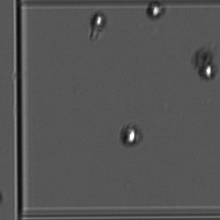Dead Cell: (194, 46, 213, 64)
Living Cell: (87, 9, 112, 39), (118, 123, 143, 148), (144, 1, 169, 24), (199, 63, 220, 81)
